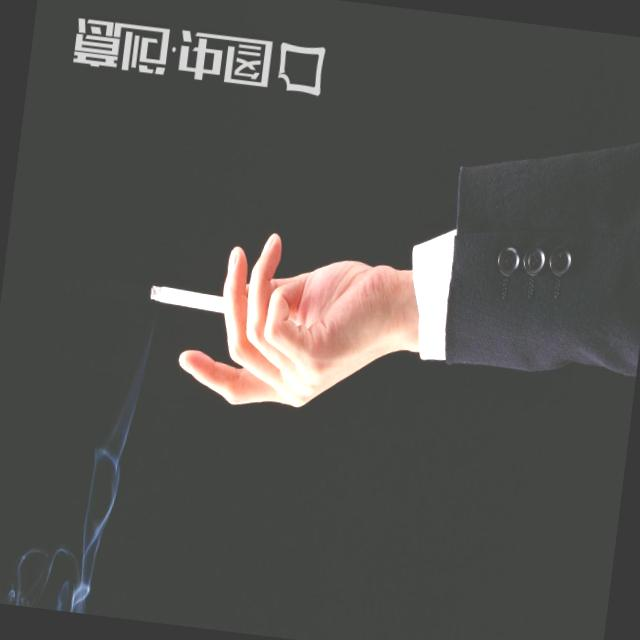smoke: (144, 274, 258, 324)
